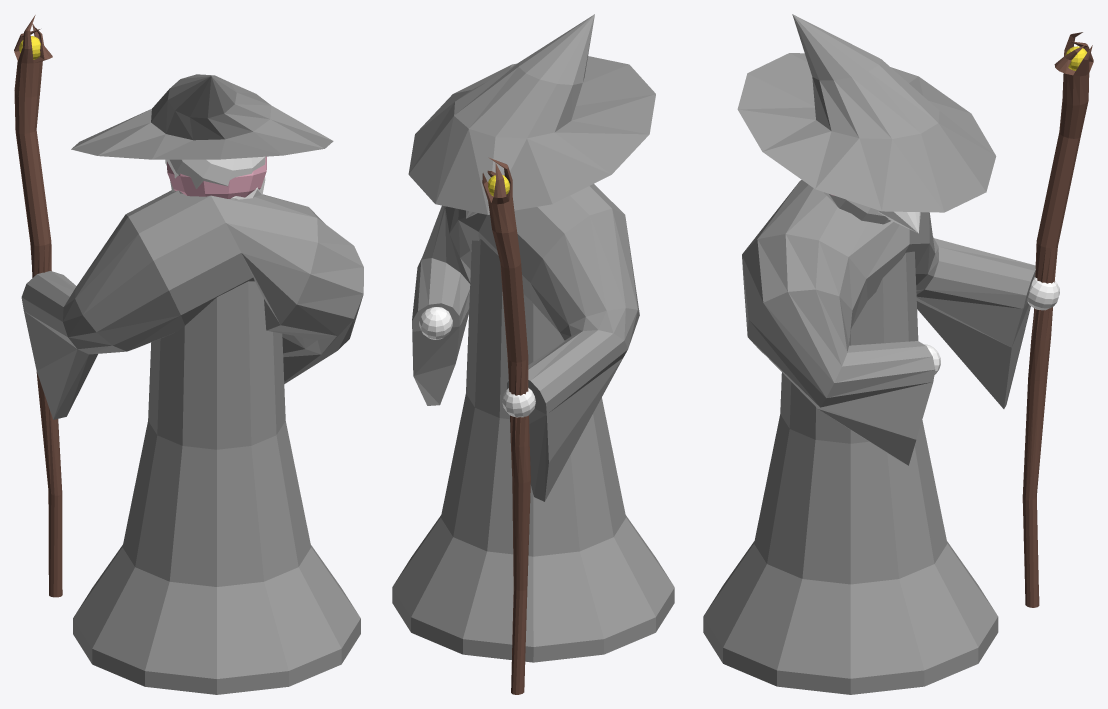
The picture shows the model from 3 angles, left to right: view 1: azimuth 30°, elevation 25°; view 2: azimuth 150°, elevation 25°; view 3: azimuth 270°, elevation 25°; orthographic projection. The views are drawn at different scales.
Visible parts, largest first — view 1: mesh_1309011883, mesh_824433891, mesh_3867100, group_1429320170, mesh_612508395, mesh_1981567642; view 2: mesh_1309011883, mesh_824433891, mesh_3867100, group_1429320170, mesh_228262806, mesh_1818719926; view 3: mesh_1309011883, mesh_824433891, mesh_3867100, group_1429320170, mesh_1818719926, mesh_343612190.
Boxes of the visible parts, x1=… form: mesh_1309011883: x1=73, y1=281, x2=360, y2=694; mesh_824433891: x1=21, y1=190, x2=363, y2=419; mesh_3867100: x1=71, y1=74, x2=333, y2=159; group_1429320170: x1=14, y1=15, x2=62, y2=597; mesh_612508395: x1=165, y1=156, x2=265, y2=188; mesh_1981567642: x1=167, y1=156, x2=266, y2=198; mesh_1309011883: x1=392, y1=239, x2=674, y2=662; mesh_824433891: x1=412, y1=184, x2=639, y2=501; mesh_3867100: x1=408, y1=14, x2=655, y2=214; group_1429320170: x1=482, y1=158, x2=530, y2=694; mesh_228262806: x1=419, y1=307, x2=452, y2=339; mesh_1818719926: x1=502, y1=388, x2=535, y2=417; mesh_1309011883: x1=703, y1=251, x2=998, y2=694; mesh_824433891: x1=742, y1=180, x2=1035, y2=465; mesh_3867100: x1=737, y1=14, x2=996, y2=212; group_1429320170: x1=1022, y1=32, x2=1093, y2=607; mesh_1818719926: x1=1027, y1=277, x2=1059, y2=310; mesh_343612190: x1=824, y1=192, x2=890, y2=224.
Size of the model in its own units: 33.21 by 75.36 by 43.68.
